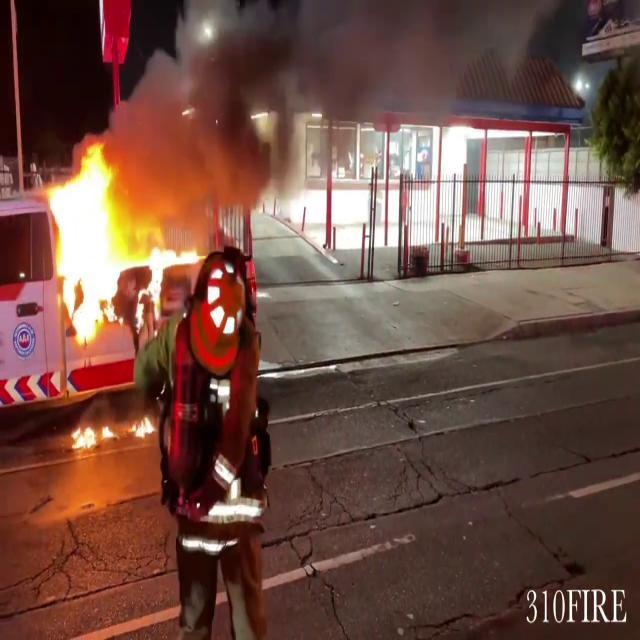Fire: (43, 142, 131, 350), (145, 228, 168, 320), (68, 412, 117, 453)
Smoke: (123, 0, 623, 205)
